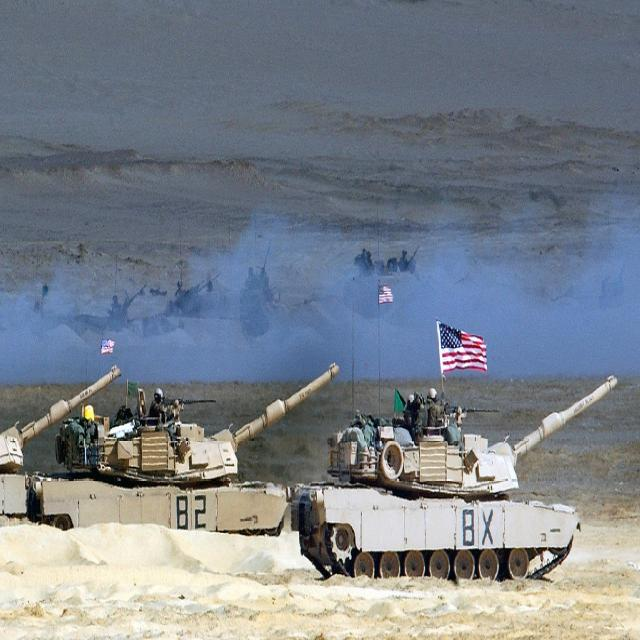tank: (289, 320, 619, 579), (24, 367, 340, 535), (0, 368, 121, 526)
